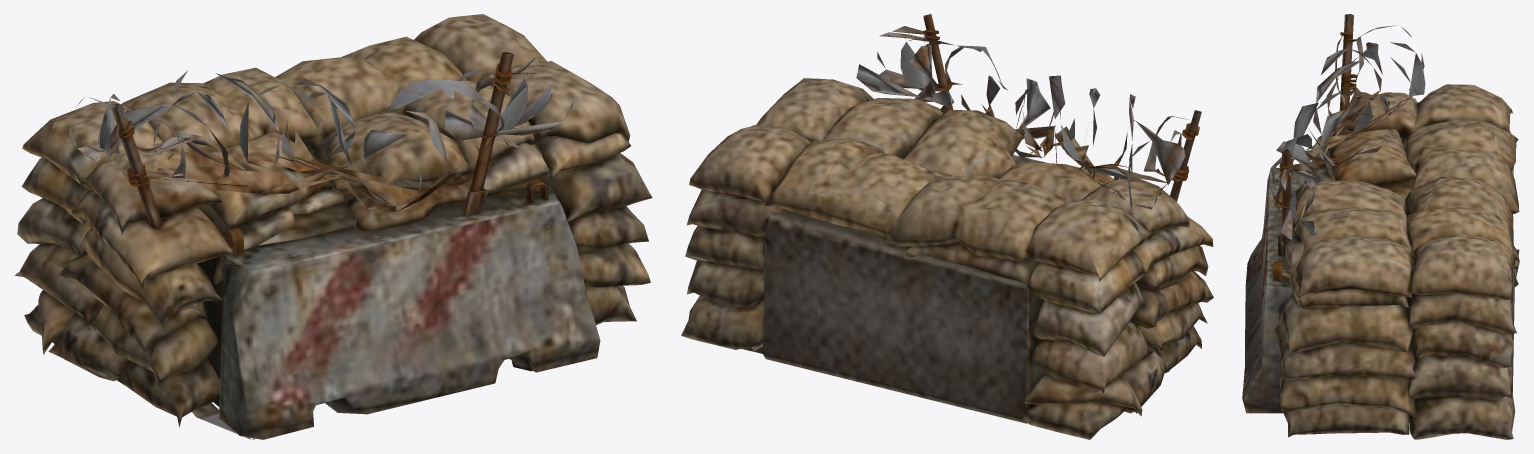
Rendered from checkpoint_barricade.glb.
3 views of the same model, side by side, from view 1: azimuth 30°, elevation 25°; view 2: azimuth 150°, elevation 25°; view 3: azimuth 270°, elevation 25° (orthographic). The views are drawn at different scales.
Visible parts, largest first — view 1: geometry_0; view 2: geometry_0; view 3: geometry_0.
Part boxes in pixels (<box>): geometry_0: <box>15,14,652,439</box>; geometry_0: <box>681,14,1213,439</box>; geometry_0: <box>1242,14,1519,439</box>.
Bounding box in the file's own units: 3.4 × 1.98 × 2.06.
Materials: 1 (1 with a texture image).
